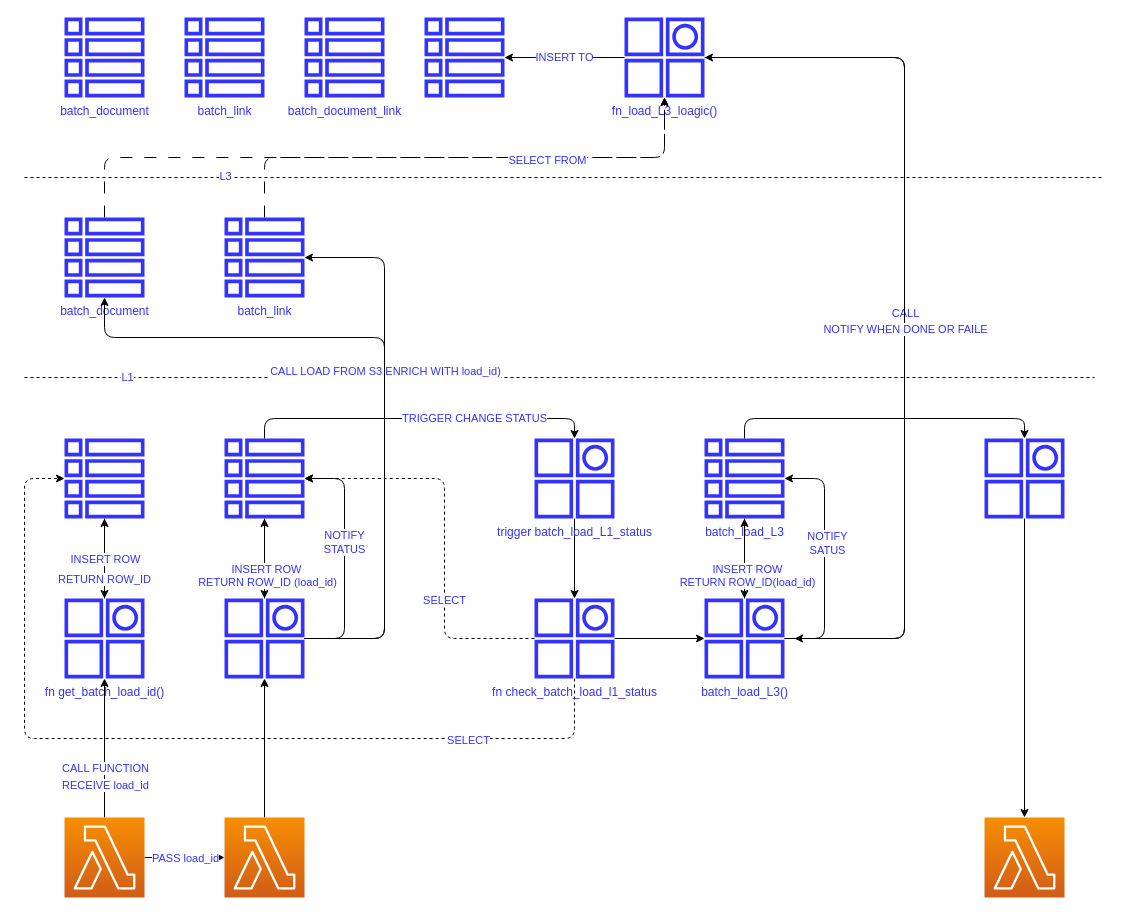
Some shapes in this 1123 by 915 pixel diagram are drawn without their labels. The shapes that lost their labels are listed below. From the top down, each one's box as (x1, y1, x2, y2) in pixels, then its label:
(424, 17, 504, 97): batch_state
(64, 438, 144, 518): batch_load
(224, 438, 304, 518): batch_load_L1
(984, 438, 1064, 518): trigger batch_loadL3__status
(224, 598, 304, 678): fn batch_load_file_l1()
